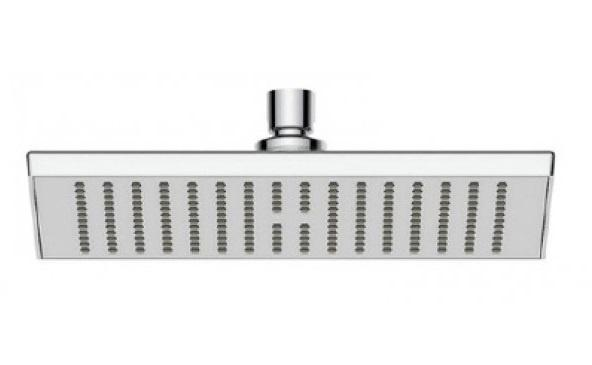Ducha: (19, 89, 562, 265)
